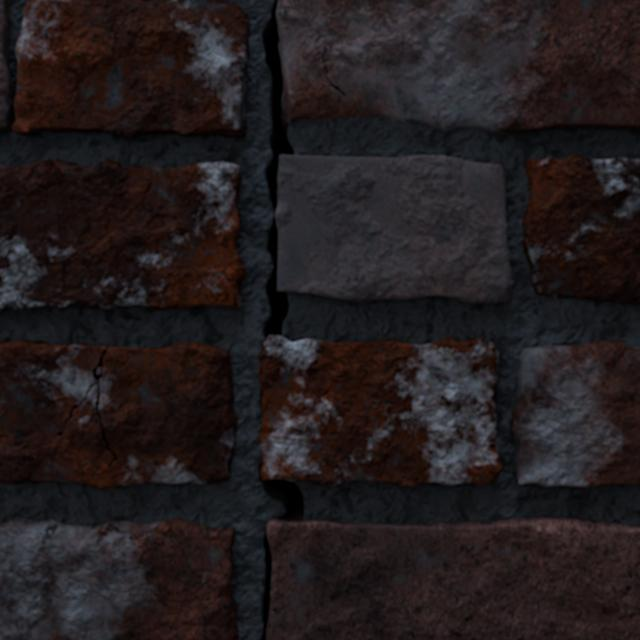crack: (258, 0, 639, 639), (0, 158, 245, 310), (0, 340, 237, 489), (0, 0, 249, 138), (0, 518, 238, 639), (509, 340, 639, 487), (522, 154, 639, 304)
